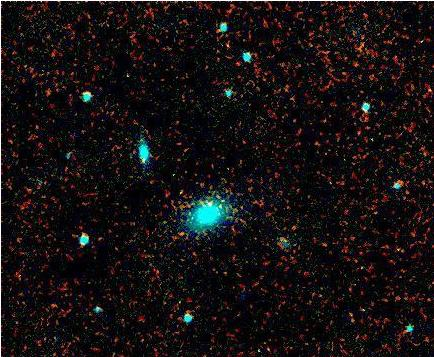star: (160, 214, 190, 244)
